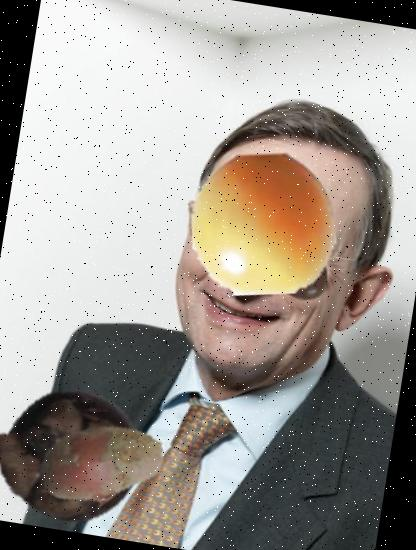Cherry: (181, 141, 346, 306)
Mangostan: (0, 373, 153, 541)
Potato: (30, 394, 176, 540)
Tomato: (276, 247, 334, 306)
